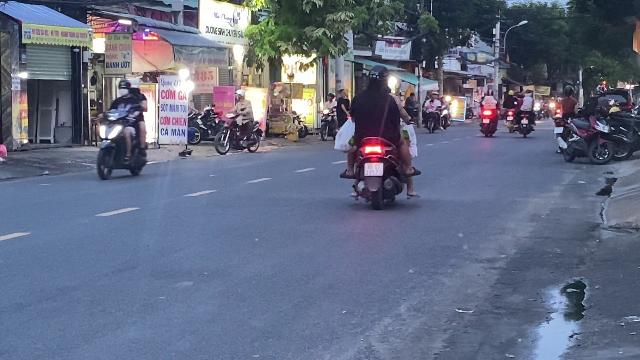helmet: (364, 65, 388, 89), (116, 78, 130, 98), (128, 77, 140, 91)
licenseplate: (364, 162, 384, 176)
motorcyclist: (336, 64, 420, 209), (93, 77, 151, 181)
